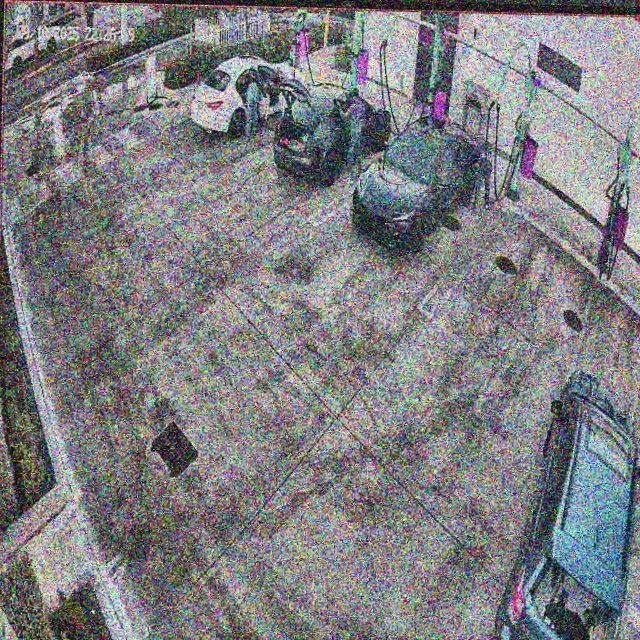Car: (351, 117, 482, 257), (272, 82, 393, 179)
